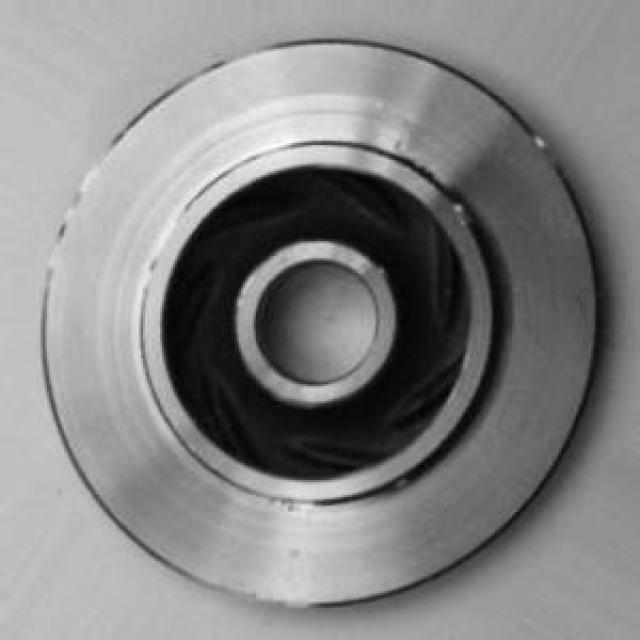Defect: (442, 192, 484, 235)
